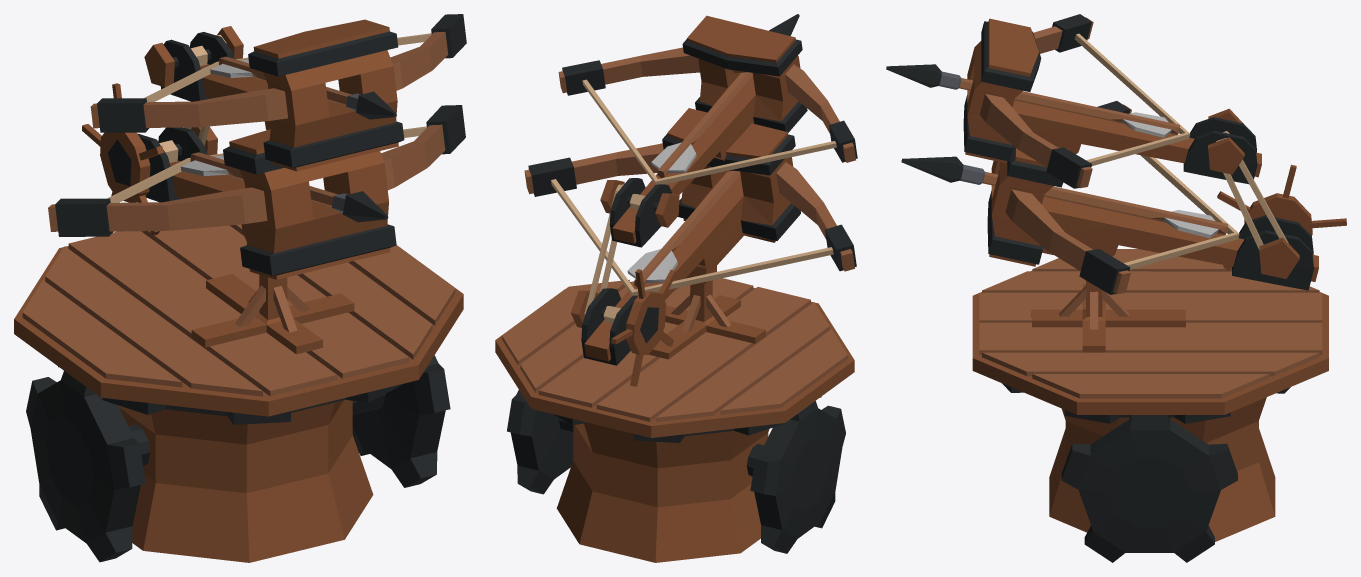
The model's file is Crossbow Level 2.FBX.
The picture shows the model from 3 angles, left to right: view 1: azimuth 30°, elevation 25°; view 2: azimuth 150°, elevation 25°; view 3: azimuth 270°, elevation 25°; orthographic projection. The views are drawn at different scales.
Parts seen in each view (by area): view 1: Crossbow.002; view 2: Crossbow.002; view 3: Crossbow.002.
Part boxes in pixels (left/top/right/bottom): Crossbow.002: left=14, top=14, right=466, bottom=562; Crossbow.002: left=495, top=14, right=857, bottom=562; Crossbow.002: left=886, top=14, right=1346, bottom=562.
Bounding box in the file's own units: 221 × 275 × 252.
1 material, 1 textured.
